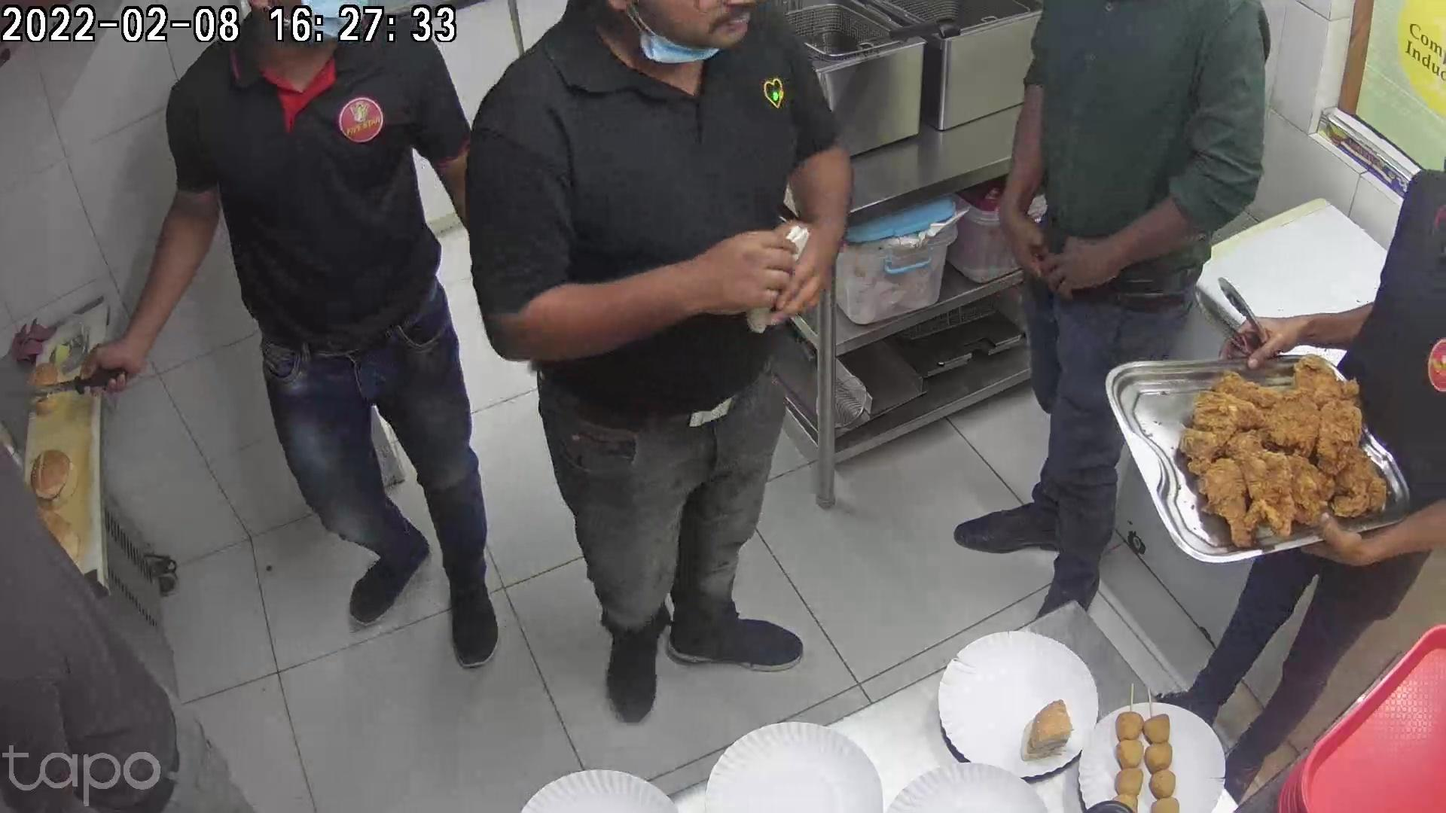no_gloves: (637, 235, 790, 315)
